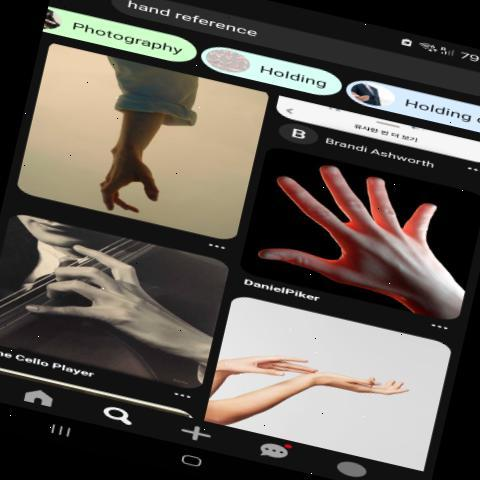Hands: (254, 155, 473, 303), (13, 232, 215, 360), (78, 106, 189, 217), (303, 358, 417, 406), (220, 330, 319, 382)
